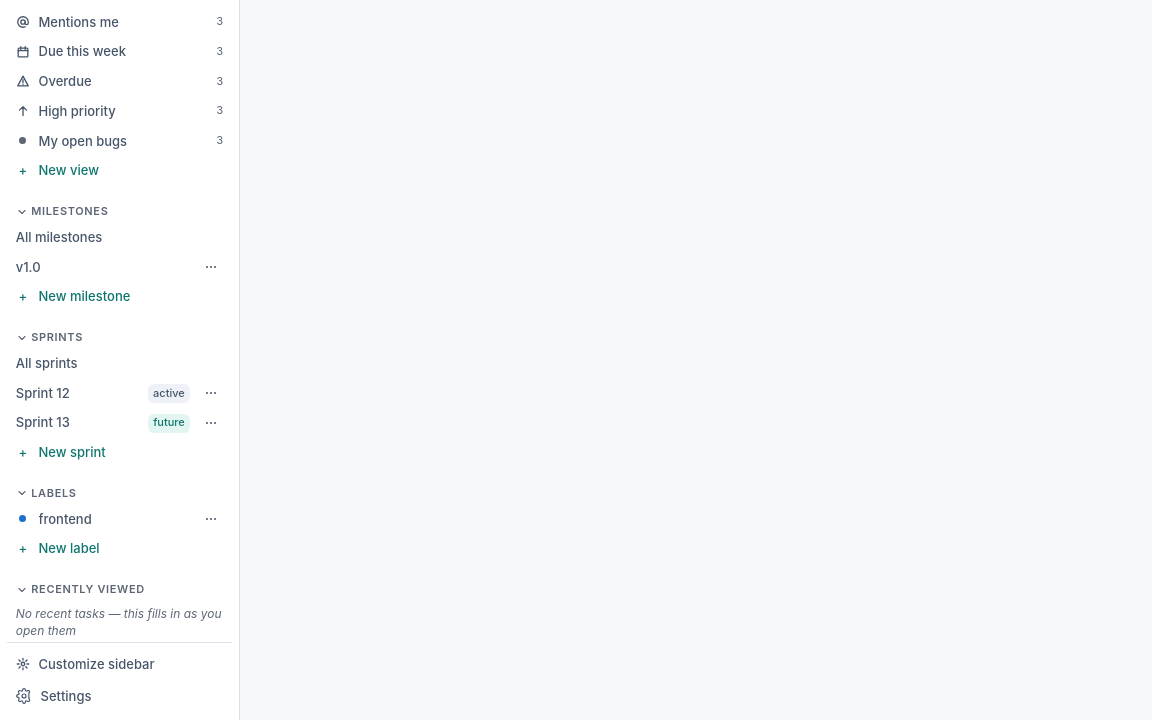
Scenario: Sidebar › '+ New label' opens the shared create dialog in place (K105)
(page scrolled)
Click the button with test id "sidebar-new-label": (120, 549) [7,535,232,563]
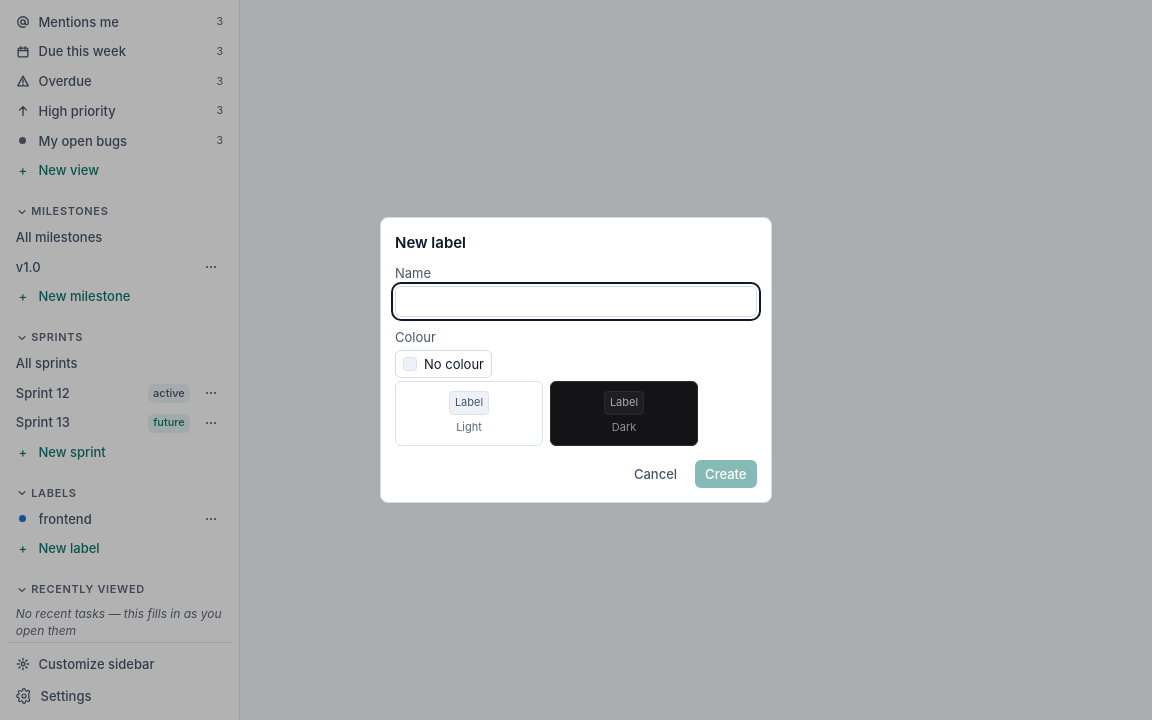
Now the field with test id "label-create-name" is shown, box [395,286,757,317]
